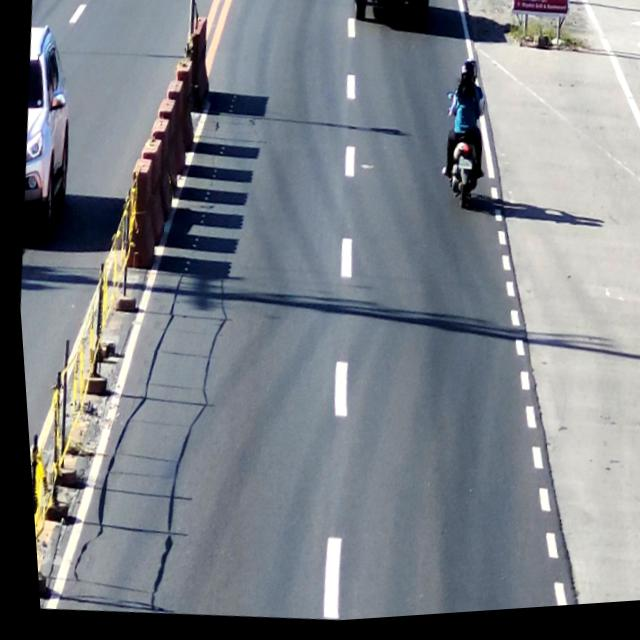License-Plate: (455, 159, 472, 177)
Motorcycle: (434, 58, 496, 222)
